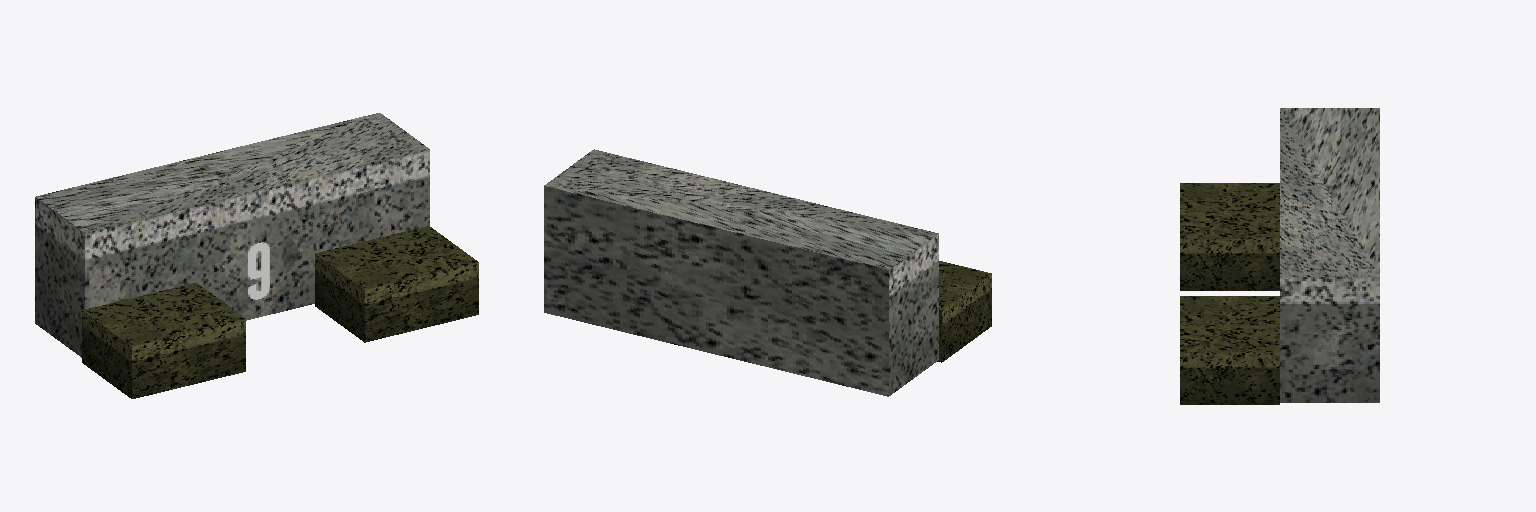
3 renders of one model, left to right at view 1: azimuth 30°, elevation 25°; view 2: azimuth 150°, elevation 25°; view 3: azimuth 270°, elevation 25°, orthographic.
Visible parts, largest first — view 1: polySurface2 polySurface1, polySurface1 polySurface4, polySurface1 polySurface3; view 2: polySurface2 polySurface1, polySurface1 polySurface3; view 3: polySurface2 polySurface1, polySurface1 polySurface4, polySurface1 polySurface3.
Boxes of the visible parts, x1=… form: polySurface2 polySurface1: x1=35, y1=113, x2=429, y2=357; polySurface1 polySurface4: x1=315, y1=226, x2=478, y2=342; polySurface1 polySurface3: x1=82, y1=283, x2=245, y2=398; polySurface2 polySurface1: x1=544, y1=149, x2=938, y2=396; polySurface1 polySurface3: x1=937, y1=261, x2=991, y2=362; polySurface2 polySurface1: x1=1280, y1=108, x2=1379, y2=402; polySurface1 polySurface4: x1=1180, y1=296, x2=1279, y2=404; polySurface1 polySurface3: x1=1180, y1=183, x2=1279, y2=290.
Bounding box in the file's own units: 2.9 × 1.02 × 1.45.
Materials: 2 (2 with a texture image).